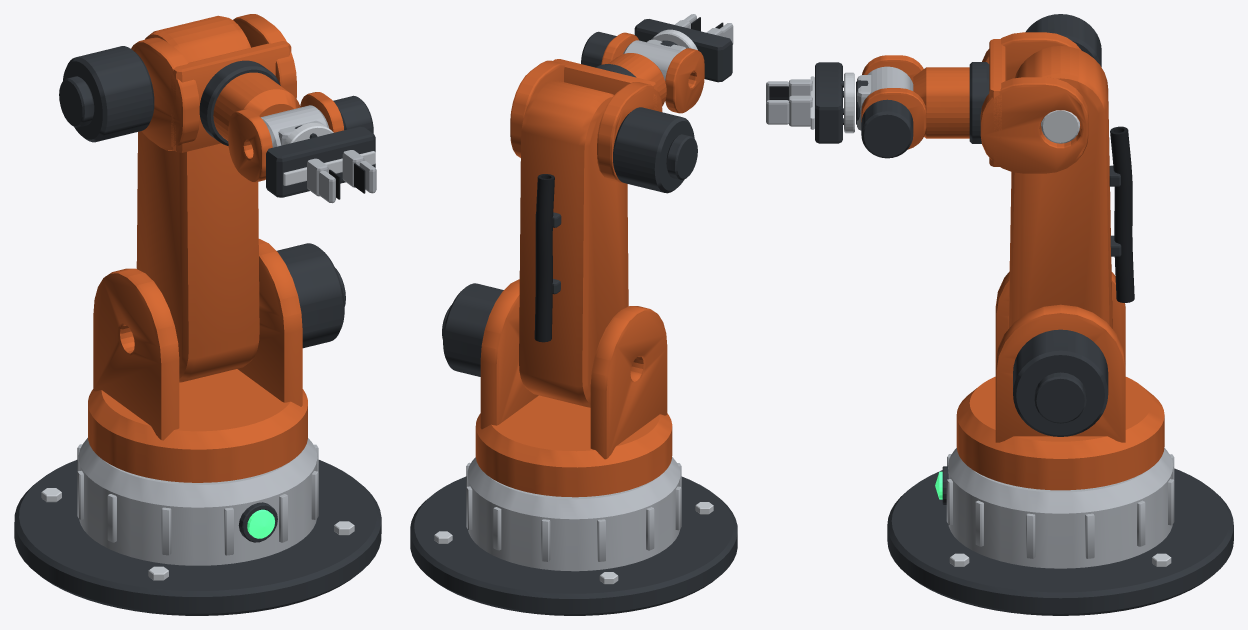
The model's file is robot_arm.src.glb.
The picture shows the model from 3 angles, left to right: view 1: azimuth 30°, elevation 25°; view 2: azimuth 150°, elevation 25°; view 3: azimuth 270°, elevation 25°; orthographic projection. The views are drawn at different scales.
Parts seen in each view (by area): view 1: geo_turret, geo_upper_arm, geo_base_plate, geo_base_motor, geo_elbow_housing, geo_elbow_motor, geo_forearm, geo_shoulder_motor, geo_gripper_body, geo_forearm_motor, geo_wrist, geo_status_light (+4 smaller); view 2: geo_turret, geo_upper_arm, geo_base_plate, geo_base_motor, geo_elbow_housing, geo_elbow_motor, geo_forearm, geo_shoulder_motor, geo_cable_upper, geo_gripper_body, geo_wrist, geo_wrist_motor (+1 smaller); view 3: geo_base_plate, geo_turret, geo_upper_arm, geo_base_motor, geo_elbow_housing, geo_shoulder_motor, geo_forearm, geo_cable_upper, geo_wrist_motor, geo_gripper_body, geo_elbow_motor, geo_finger_right (+4 smaller).
Part boxes in pixels (left/top/right/bottom): geo_turret: left=88, top=239, right=307, bottom=482; geo_upper_arm: left=136, top=15, right=259, bottom=382; geo_base_plate: left=14, top=460, right=381, bottom=615; geo_base_motor: left=77, top=438, right=318, bottom=565; geo_elbow_housing: left=131, top=14, right=296, bottom=152; geo_elbow_motor: left=59, top=46, right=154, bottom=142; geo_forearm: left=213, top=72, right=343, bottom=182; geo_shoulder_motor: left=277, top=243, right=345, bottom=348; geo_gripper_body: left=266, top=126, right=375, bottom=197; geo_forearm_motor: left=199, top=60, right=280, bottom=145; geo_wrist: left=261, top=105, right=329, bottom=147; geo_status_light: left=238, top=502, right=277, bottom=542; geo_turret: left=475, top=279, right=672, bottom=497; geo_upper_arm: left=519, top=80, right=628, bottom=407; geo_base_plate: left=410, top=476, right=737, bottom=615; geo_base_motor: left=466, top=457, right=681, bottom=571; geo_elbow_housing: left=510, top=59, right=662, bottom=182; geo_elbow_motor: left=613, top=107, right=697, bottom=193; geo_forearm: left=601, top=32, right=704, bottom=113; geo_shoulder_motor: left=442, top=283, right=503, bottom=376; geo_cable_upper: left=534, top=174, right=561, bottom=342; geo_gripper_body: left=634, top=19, right=732, bottom=82; geo_wrist: left=623, top=39, right=685, bottom=80; geo_wrist_motor: left=581, top=31, right=616, bottom=67; geo_base_plate: left=887, top=468, right=1233, bottom=615; geo_turret: left=956, top=271, right=1164, bottom=490; geo_upper_arm: left=1008, top=45, right=1112, bottom=328; geo_base_motor: left=946, top=448, right=1174, bottom=568; geo_elbow_housing: left=980, top=32, right=1088, bottom=173; geo_shoulder_motor: left=1013, top=329, right=1108, bottom=436; geo_forearm: left=861, top=55, right=969, bottom=149; geo_cable_upper: left=1109, top=126, right=1134, bottom=302; geo_wrist_motor: left=861, top=99, right=913, bottom=158; geo_gripper_body: left=810, top=62, right=842, bottom=143; geo_elbow_motor: left=1025, top=14, right=1101, bottom=66; geo_finger_right: left=766, top=95, right=812, bottom=126.
Bounding box in the file's own units: 0.16 × 0.248 × 0.216.
